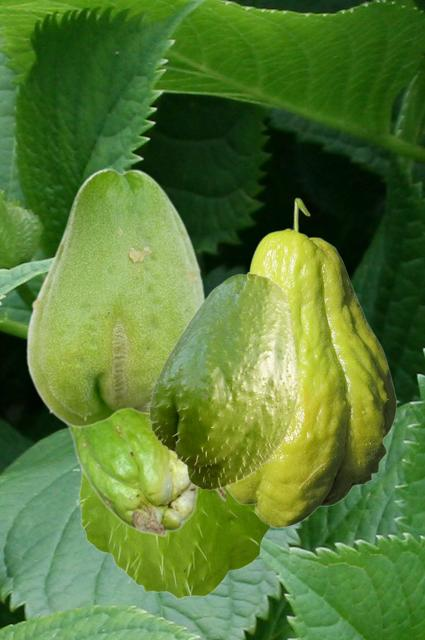sayote: (225, 197, 396, 527), (25, 167, 205, 426), (144, 272, 299, 492), (72, 467, 271, 598), (48, 410, 224, 536)
